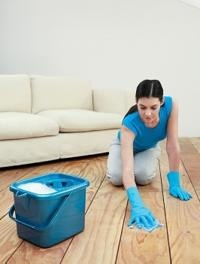person without safety: (105, 76, 192, 233)
